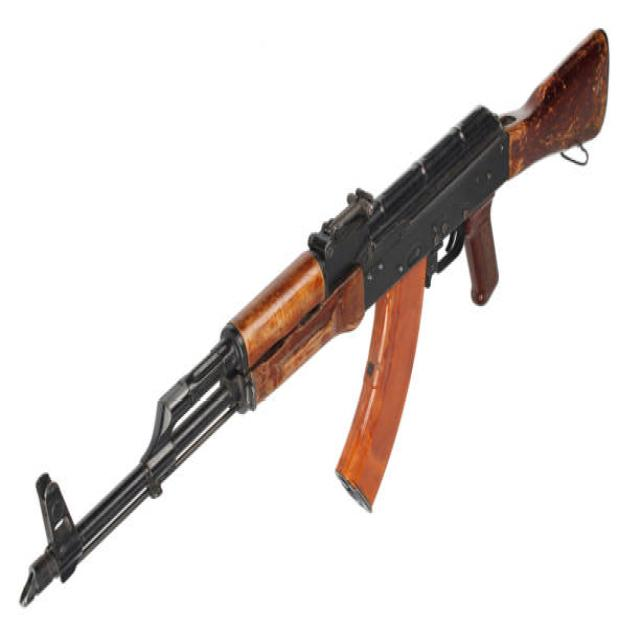rifle: (12, 18, 621, 627)
